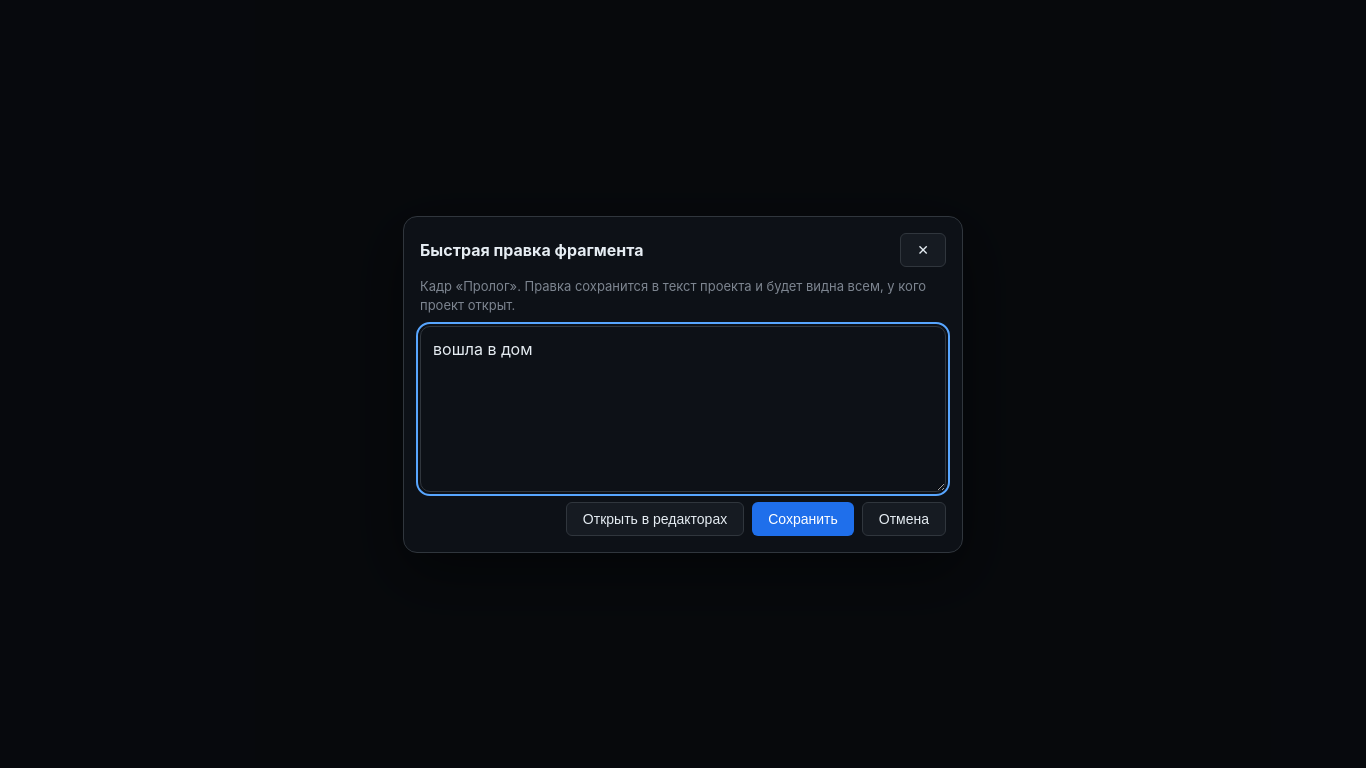
Test: QuickEditWindow › сохраняет правку в документ кадра по найденным смещениям
Step 1. Replace the text in the text box with "вошла в избу" → (683, 408), box x1=420 y1=326 x2=946 y2=492
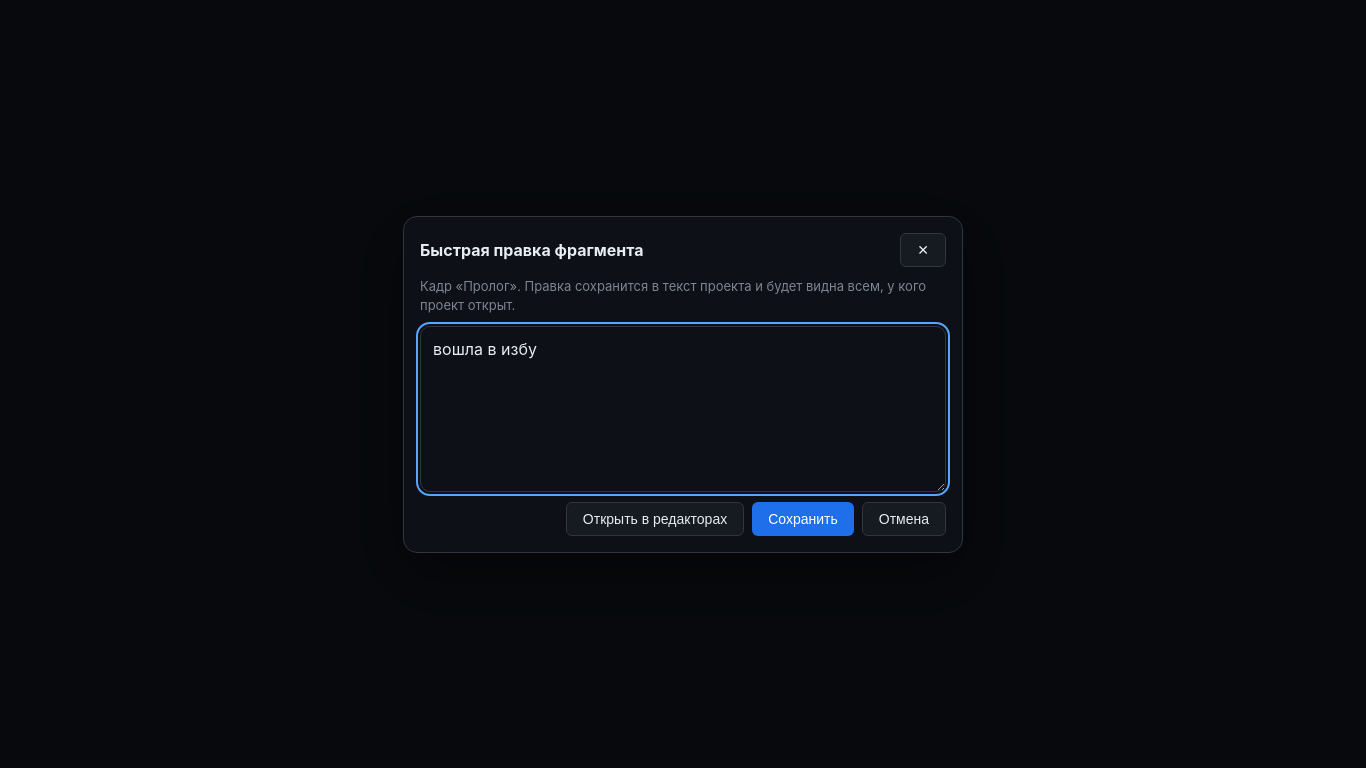
Step 2. Click the button "Сохранить" → (803, 518), box x1=752 y1=502 x2=854 y2=536
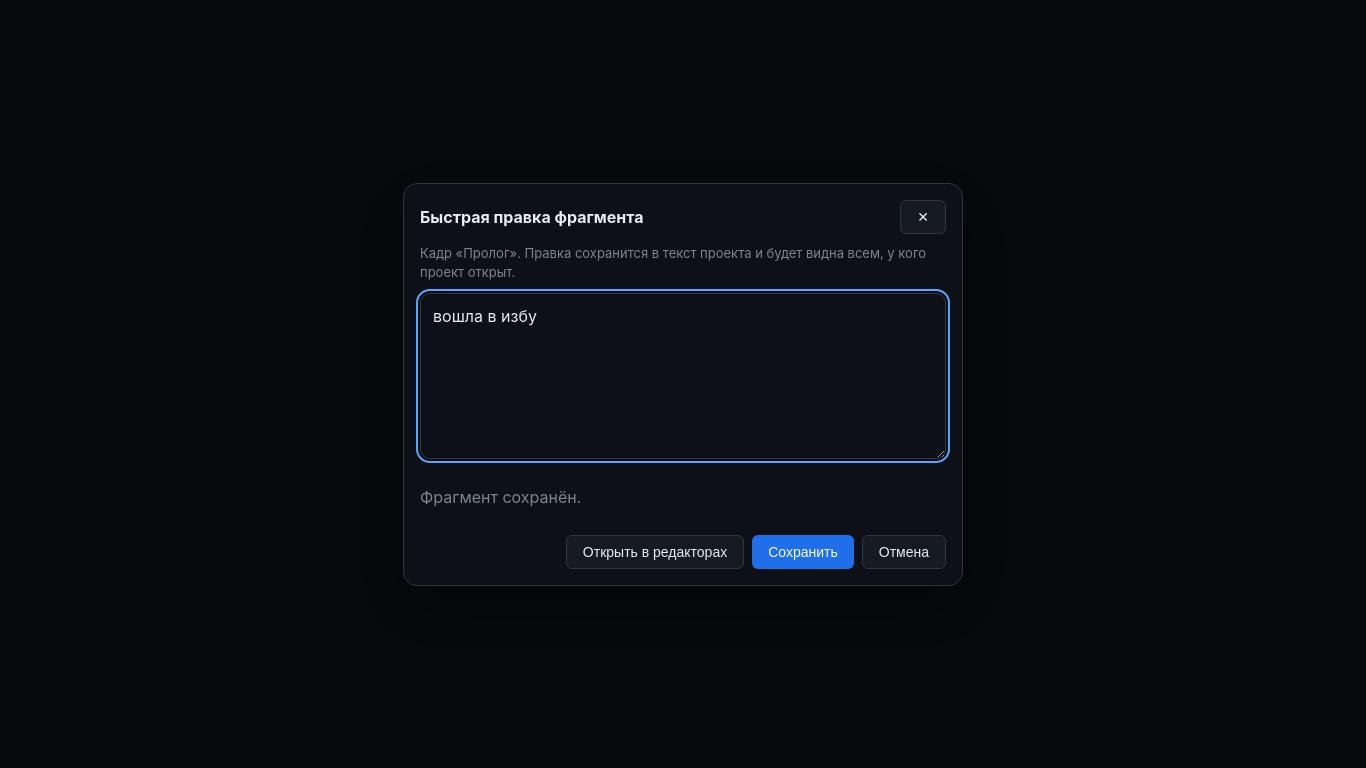
Expected: the message reads "Фрагмент сохранён.", x1=420 y1=486 x2=581 y2=506
